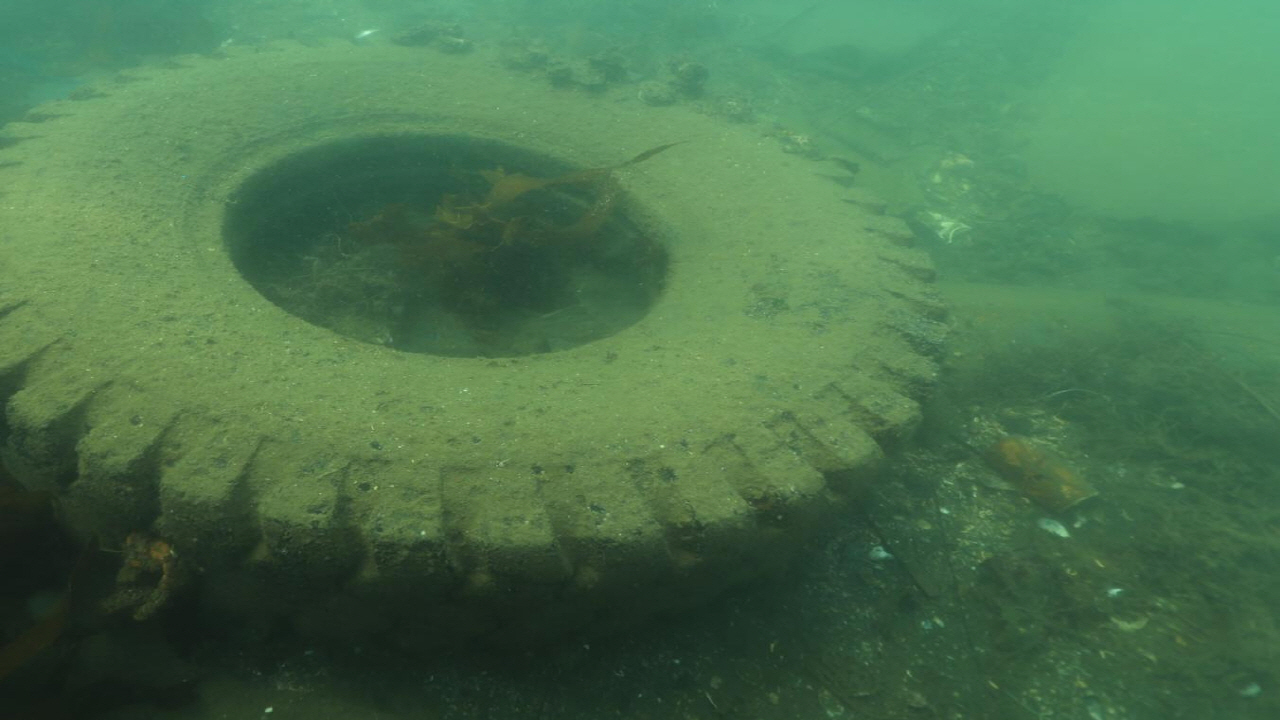tire: (0, 36, 950, 640)
